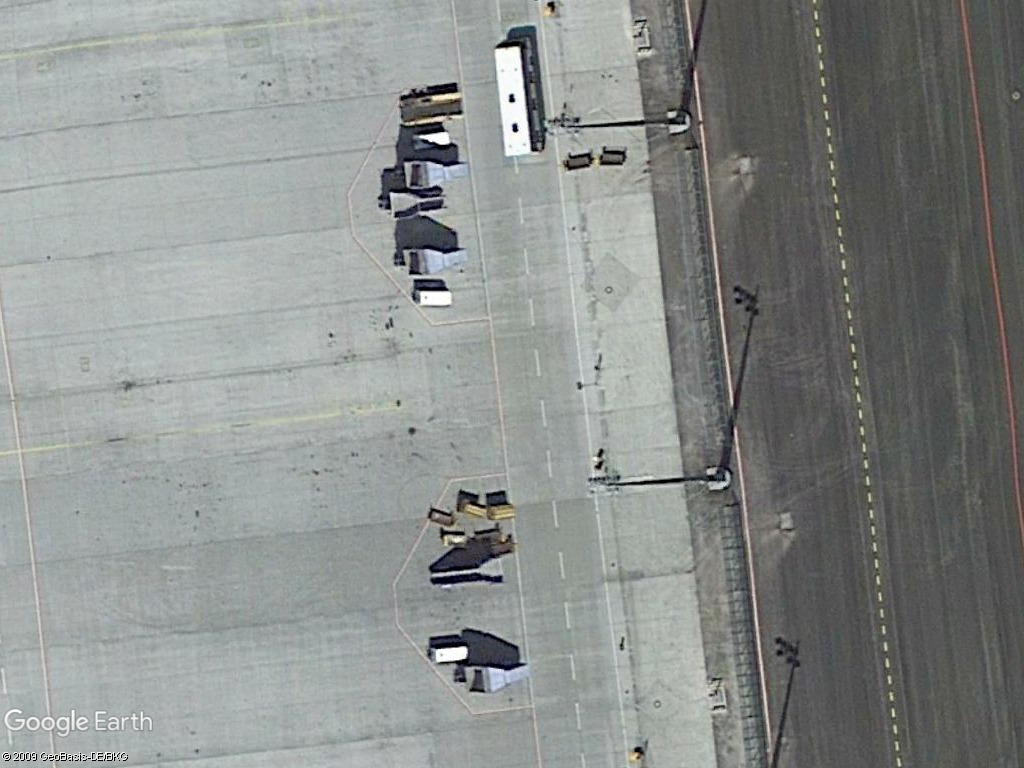bus: (491, 34, 550, 160)
stairtruck: (423, 552, 508, 599)
